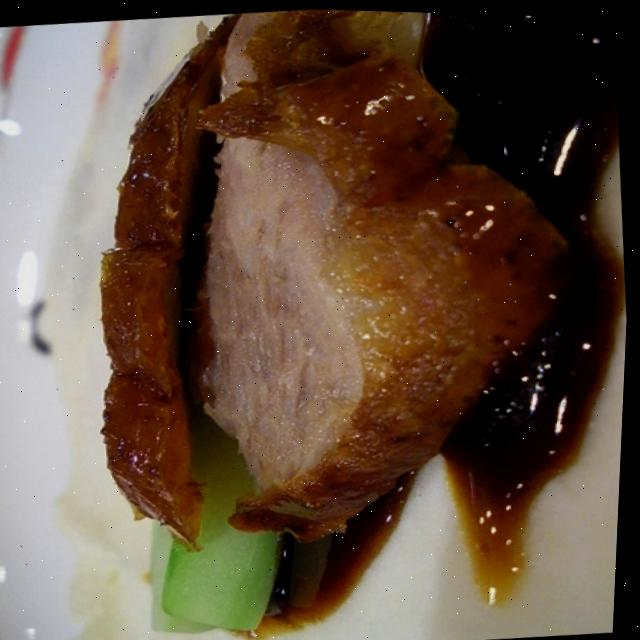烧串烤肉: (1, 1, 627, 640)
